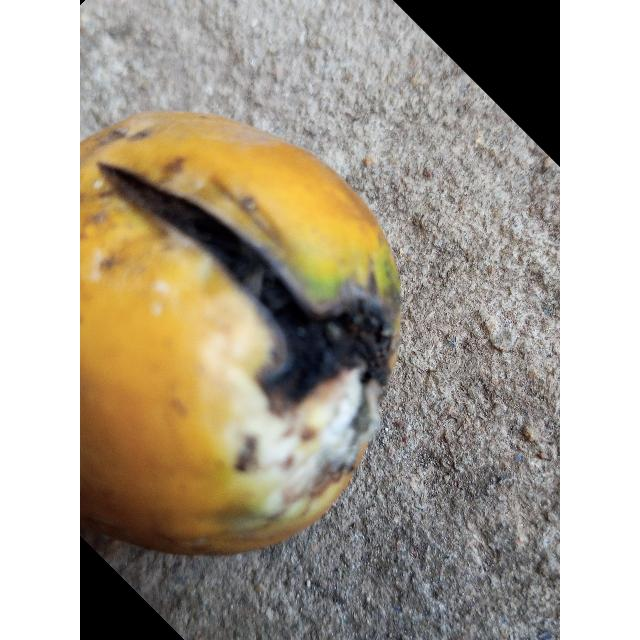damaged: (80, 110, 402, 560)
